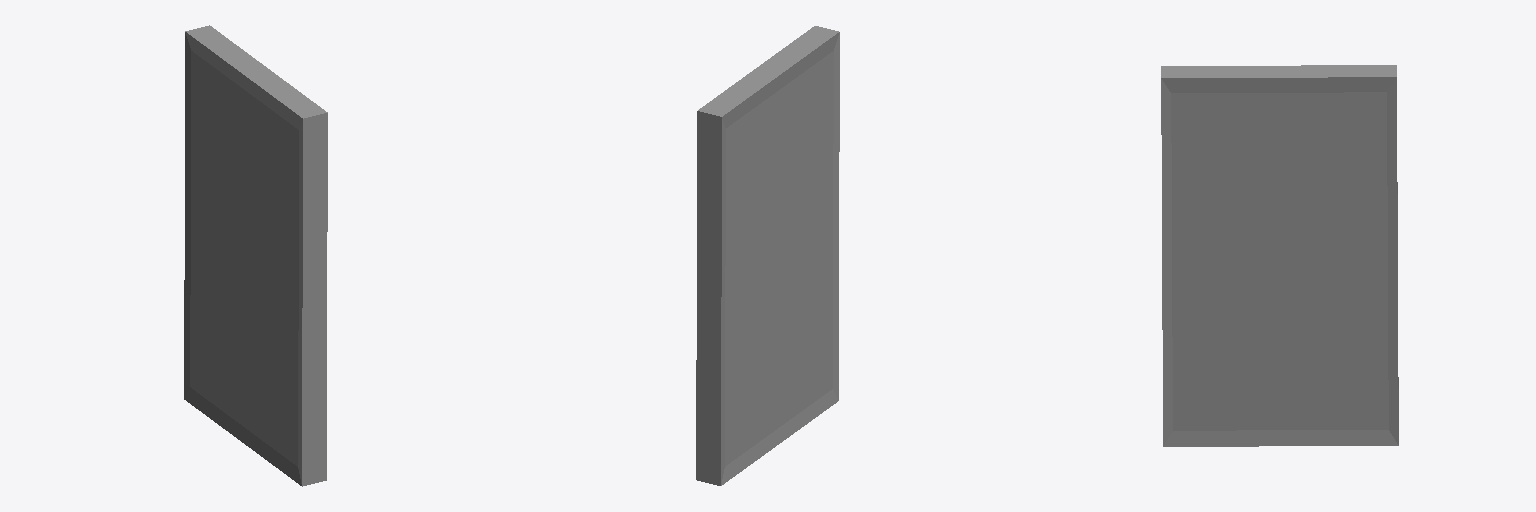
Rendered from vrata.obj.
The picture shows the model from 3 angles: view 1: azimuth 30°, elevation 25°; view 2: azimuth 150°, elevation 25°; view 3: azimuth 270°, elevation 25°; orthographic projection.
Visible parts, largest first — view 1: Plane_Plane.001; view 2: Plane_Plane.001; view 3: Plane_Plane.001.
Boxes of the visible parts, x1=… form: Plane_Plane.001: x1=184, y1=25, x2=327, y2=486; Plane_Plane.001: x1=696, y1=26, x2=839, y2=485; Plane_Plane.001: x1=1161, y1=65, x2=1398, y2=446.
Bounding box in the file's own units: 0.3231 × 4.6 × 2.68.